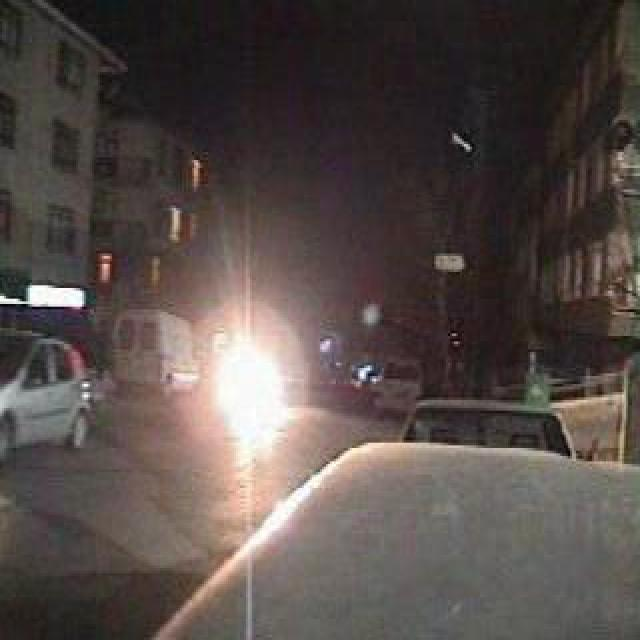other: (211, 326, 294, 451)
